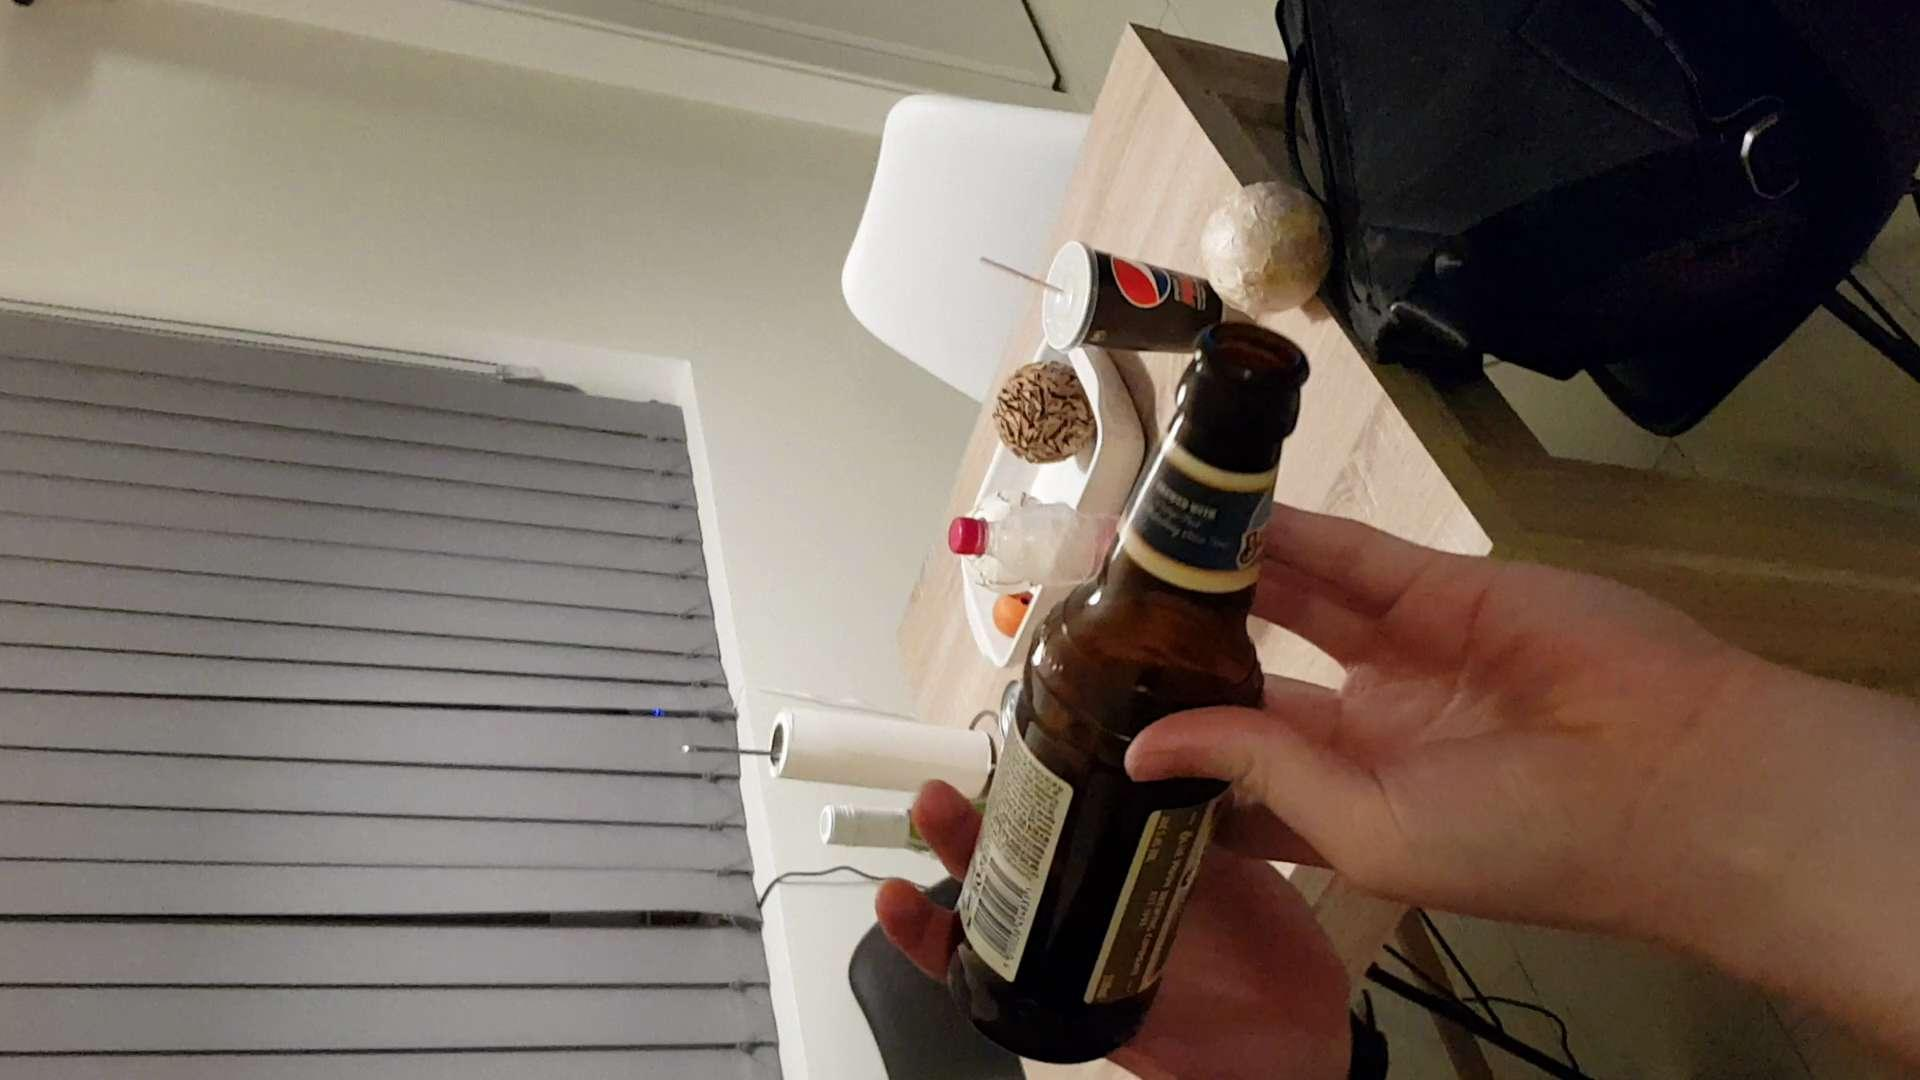Bottle: (957, 310, 1308, 1051)
Sphere: (1197, 170, 1332, 316), (982, 356, 1106, 459)
